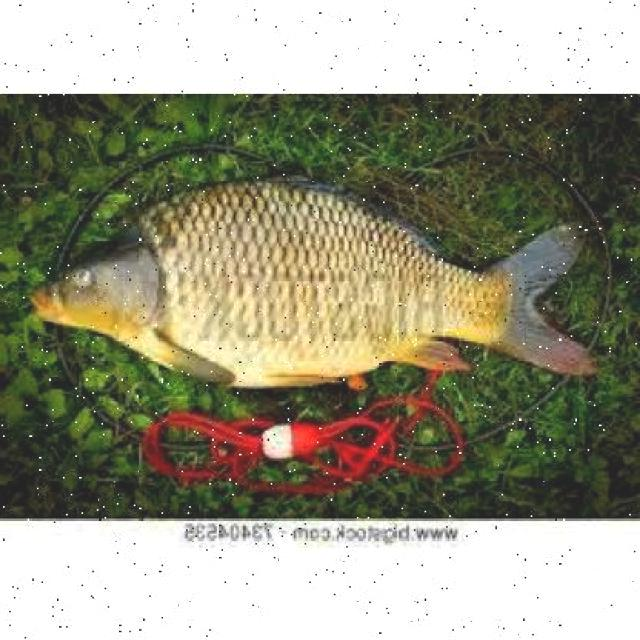ikan-mas: (22, 173, 600, 399)
